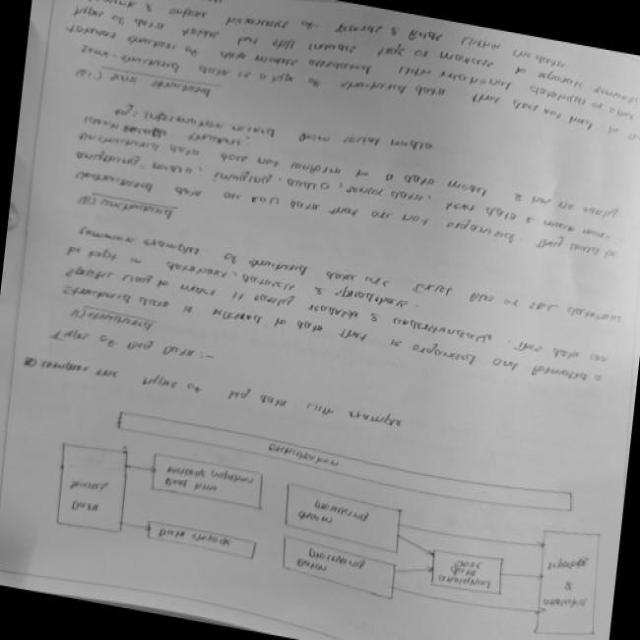Figure Detection - v3 Dataset Version2: (22, 381, 623, 640)
